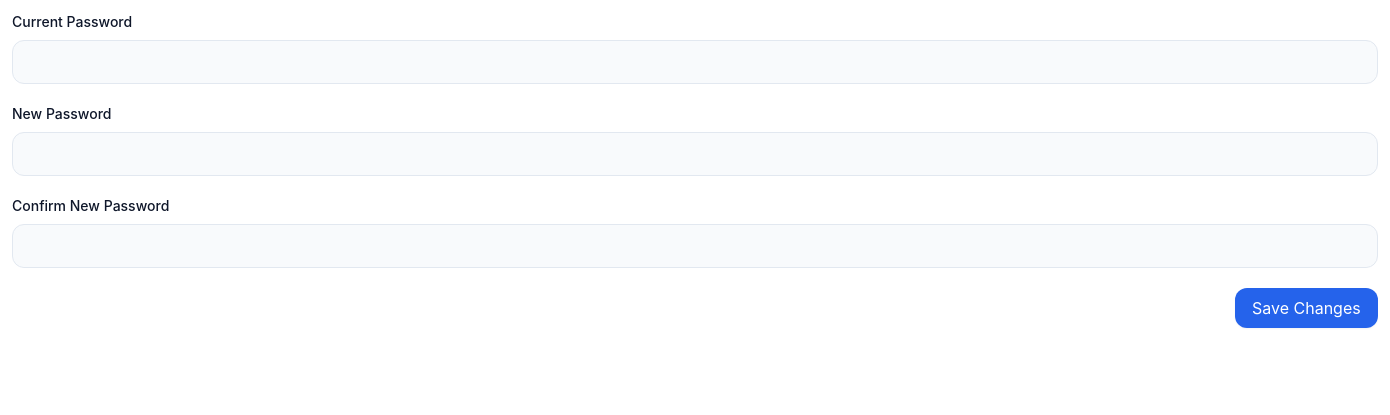
Test case: ChangePasswordForm › shows a validation error when passwords do not match
Type "current-password" into the password field labelled "Current Password" at (695, 62), box [12,40,1378,84]
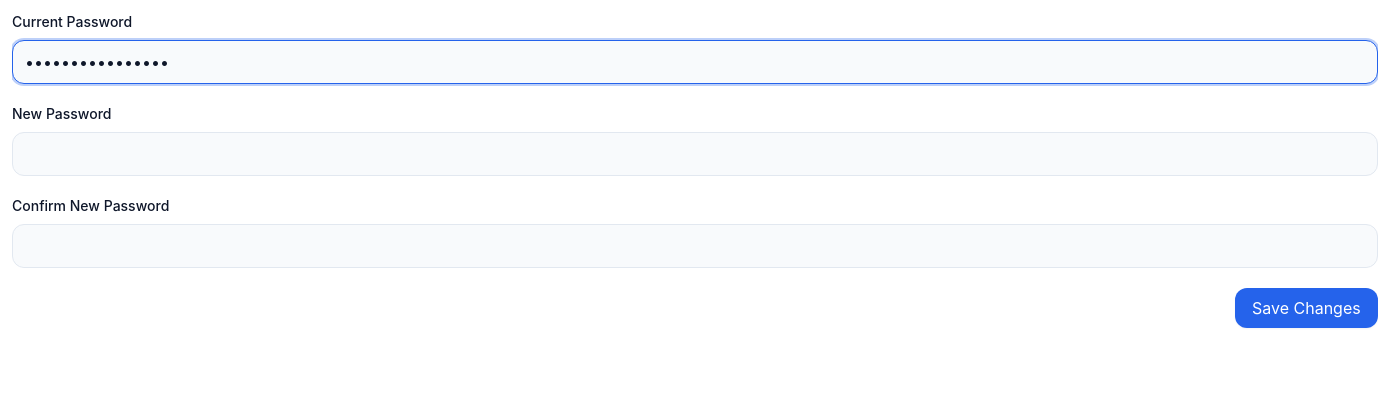
Type "new-password" into the password field labelled "New Password" at (695, 154), box [12,132,1378,176]
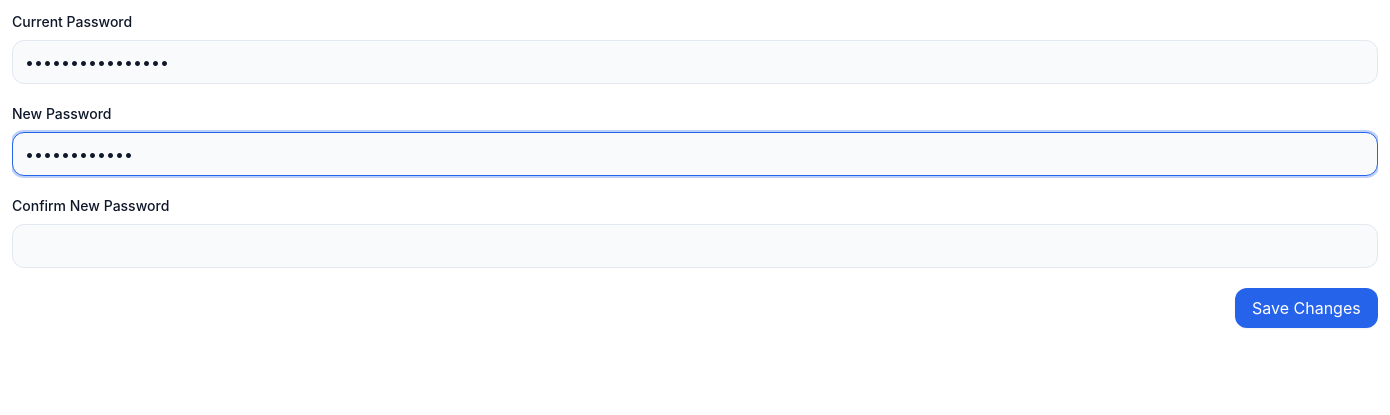
Type "different-password" into the password field labelled "Confirm New Password" at (695, 246), box [12,224,1378,268]
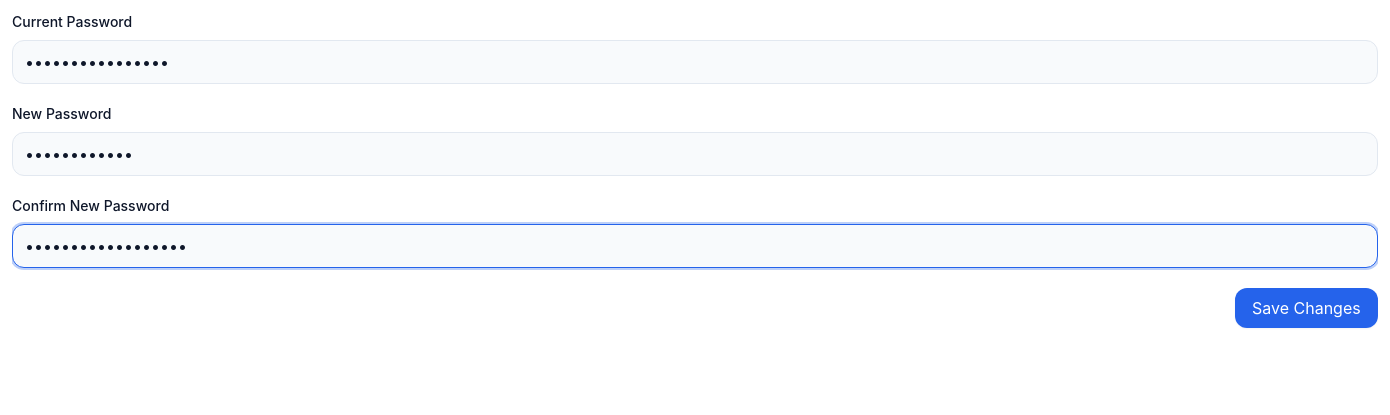
Click the button "Save Changes" at (1307, 308), box [1235,288,1378,328]
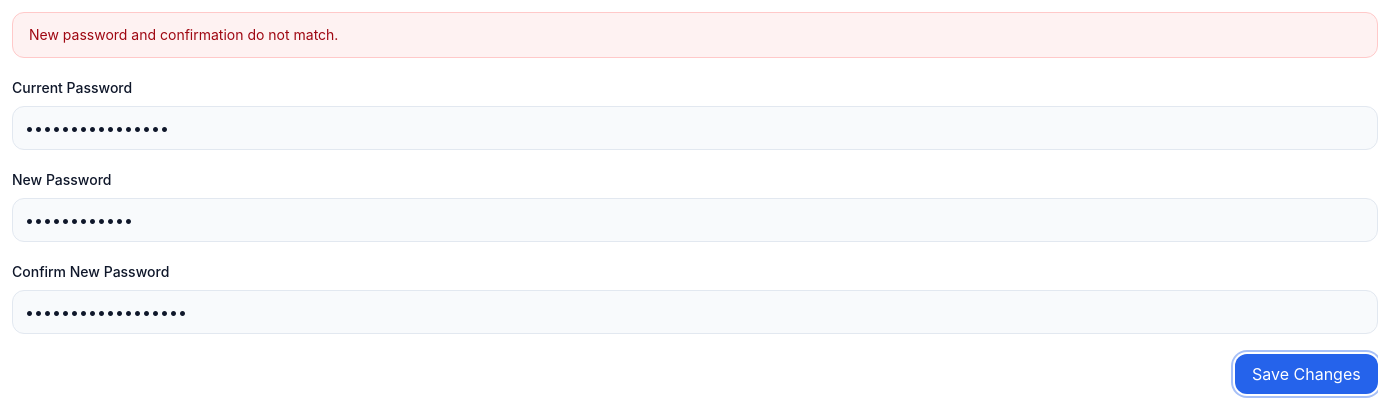
Now the text "New password and confirmation do not match." is shown, box [29,26,338,43]
